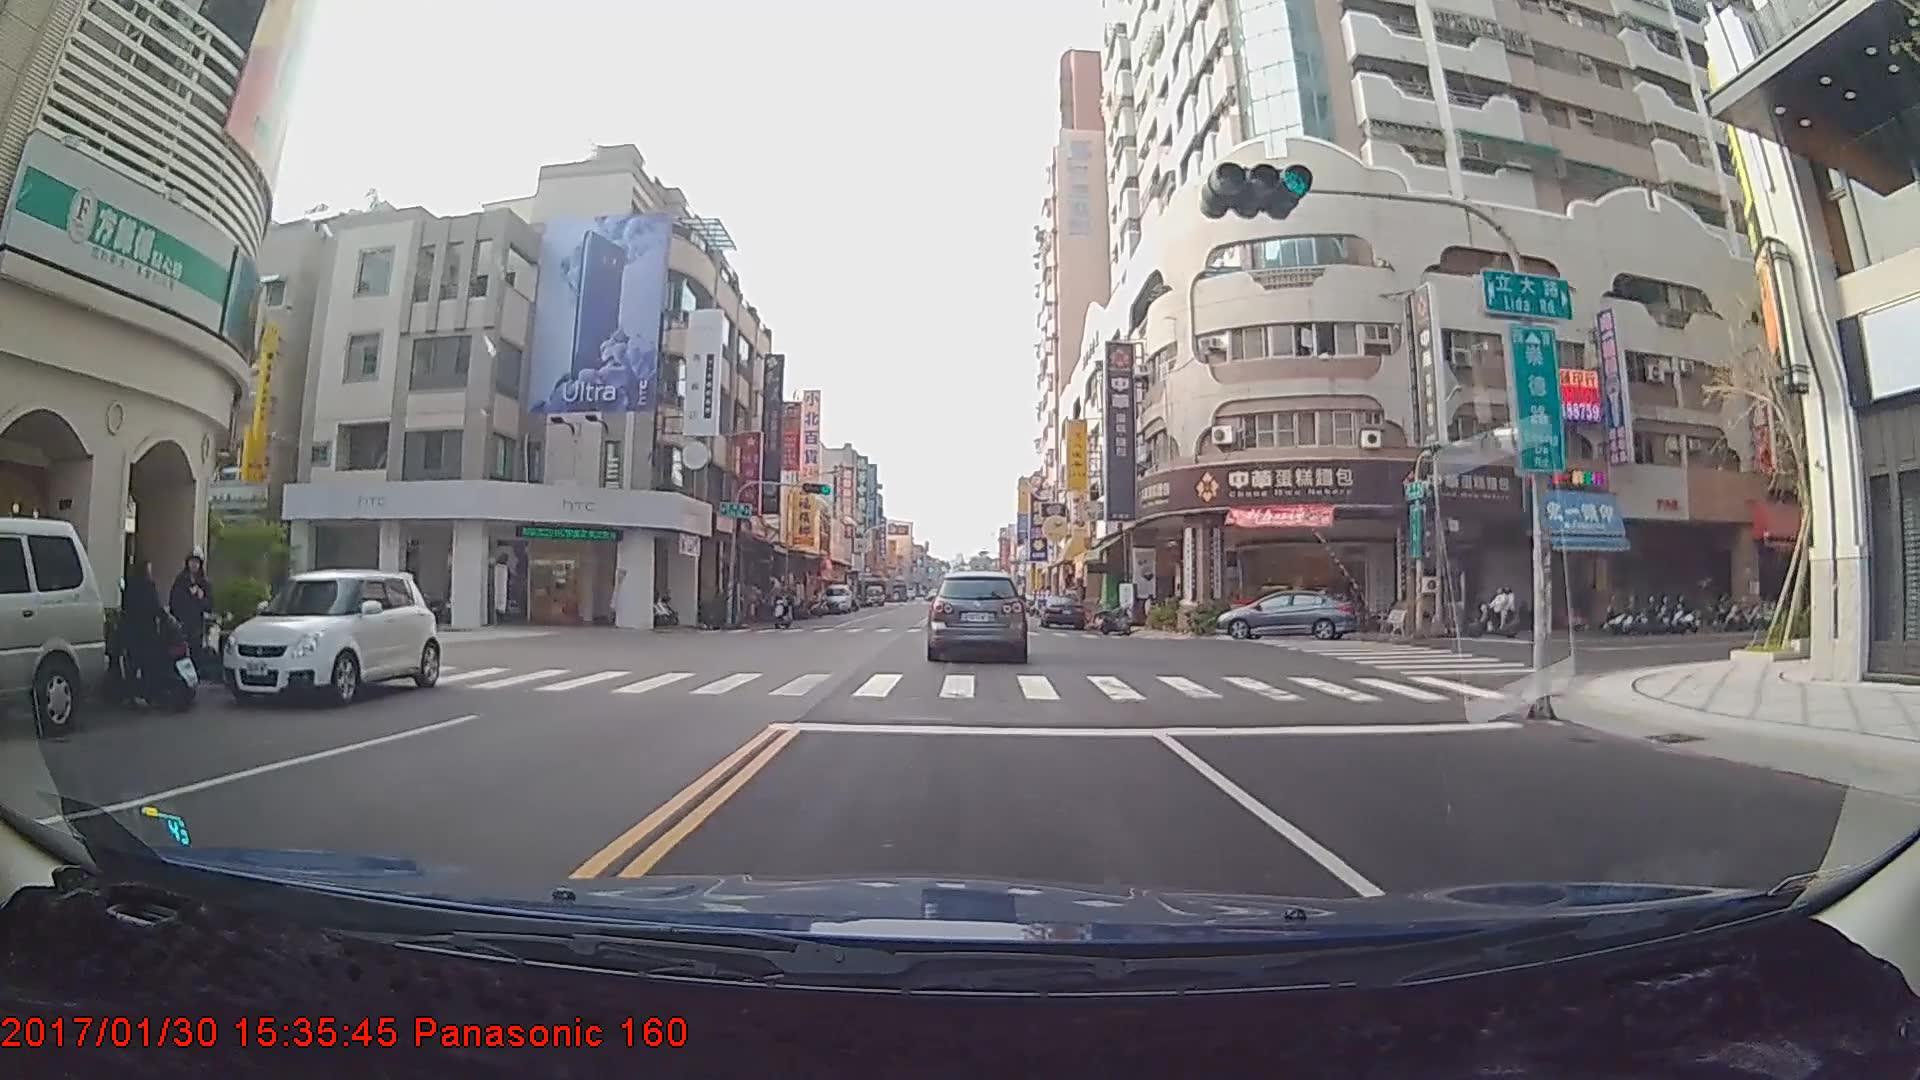pedestrian: (163, 540, 218, 700)
rider: (1466, 586, 1526, 637), (765, 583, 798, 632)
vehicle: (228, 569, 442, 706), (0, 517, 108, 737), (927, 571, 1027, 661), (1219, 585, 1360, 643), (1041, 593, 1086, 629), (821, 582, 852, 613)
